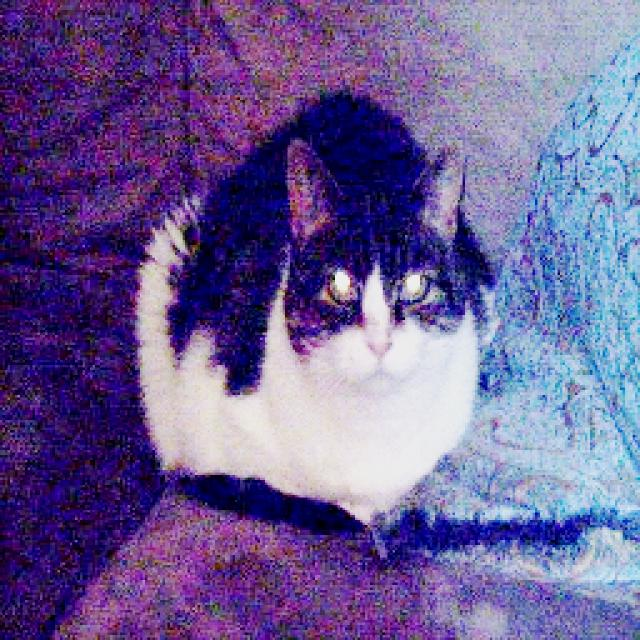cat: (132, 94, 501, 530)
